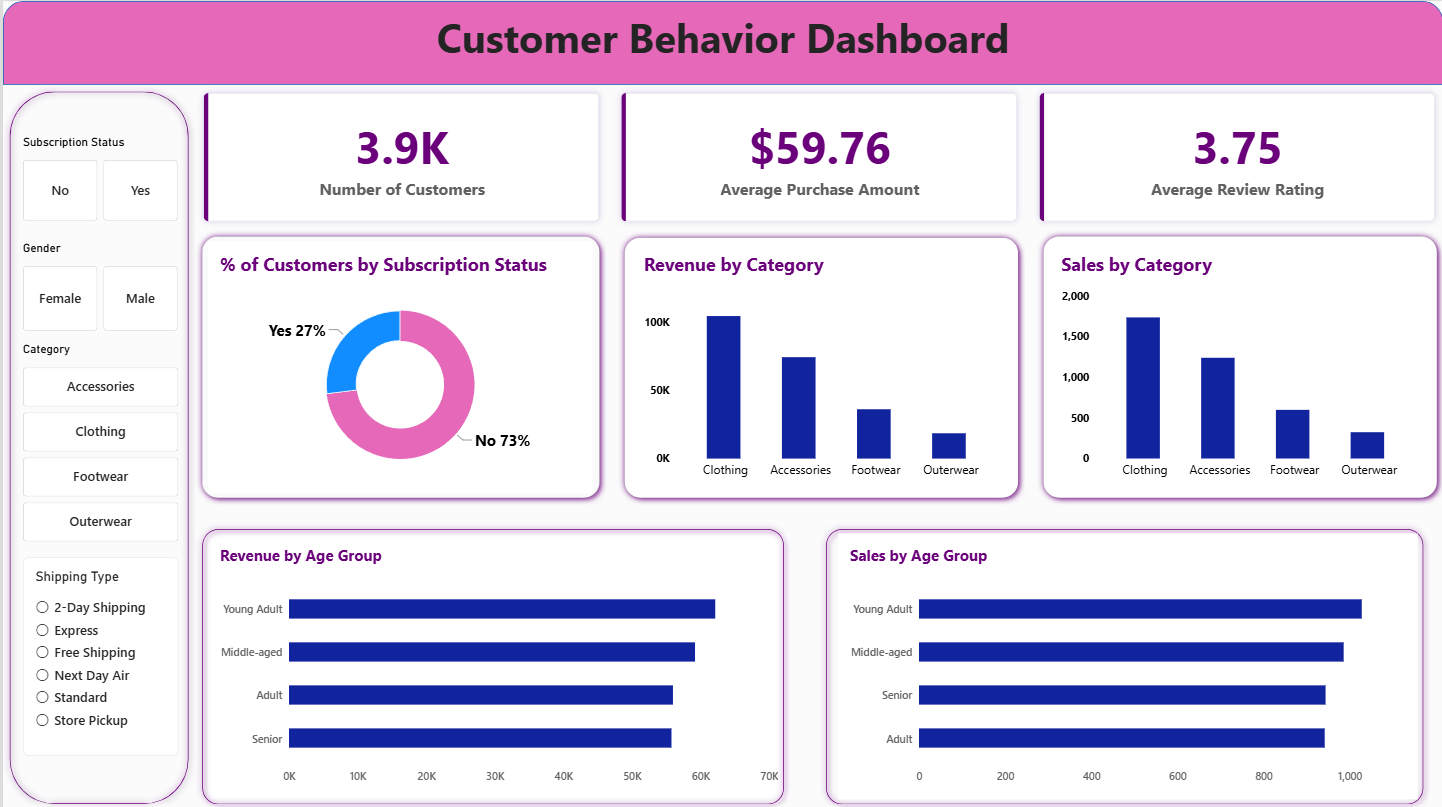

Layout of this report page (visuals, bound fields, positions):
{"tool":"powerbi","page":{"name":"Page 1","canvas":[1920,1080],"ordinal":0},"visuals":[{"type":"cardVisual","fields":{"Data":["customer_bahavior customer_data.Number of Customers","customer_bahavior customer_data.Average Purchase Amount","customer_bahavior customer_data.Average Review Rating"]},"box":[256.4,111.6,1664,193.6],"z":0},{"type":"shape","box":[0,0,1920.4,111.6],"z":1000},{"type":"textbox","box":[0,12.2,1920.4,99.4],"z":2000},{"type":"shape","box":[256.4,305.2,547.7,366.3],"z":3000},{"type":"donutChart","title":"% of Customers by Subscription Status","fields":{"Category":["customer_bahavior customer_data.subscription_status"],"Y":["CountNonNull(customer_bahavior customer_data.customer_id)"]},"box":[273.8,319.2,512.8,336.6],"z":4000},{"type":"shape","box":[819.8,307,542.4,364.5],"z":5000},{"type":"shape","box":[1377.6,305.2,542.4,366.3],"z":6000},{"type":"clusteredColumnChart","title":"Revenue by Category","fields":{"Y":["Sum(customer_bahavior customer_data.purchase_amount)"],"Category":["customer_bahavior customer_data.category"]},"box":[838.7,319.6,506.6,336.7],"z":7000},{"type":"clusteredColumnChart","title":"Sales by Category","fields":{"Y":["CountNonNull(customer_bahavior customer_data.customer_id)"],"Category":["customer_bahavior customer_data.category"]},"box":[1395.4,319.2,507.6,336.6],"z":8000},{"type":"shape","box":[0,111.6,256.4,968],"z":9000},{"type":"advancedSlicerVisual","title":"Subscription Status","fields":{"Values":["customer_bahavior customer_data.subscription_status"]},"box":[26.2,177.9,207.6,115.1],"z":10000},{"type":"advancedSlicerVisual","title":"Gender","fields":{"Values":["customer_bahavior customer_data.gender"]},"box":[26.2,319.2,207.6,120.3],"z":11000},{"type":"advancedSlicerVisual","title":"Category","fields":{"Values":["customer_bahavior customer_data.category"]},"box":[26.2,455.2,207.6,266.9],"z":12000},{"type":"listSlicer","title":"Shipping Type","fields":{"Values":["customer_bahavior customer_data.shipping_type"]},"box":[26.2,741.3,207.6,265.1],"z":13000},{"type":"clusteredBarChart","title":"Revenue by Age Group","fields":{"Y":["Sum(customer_bahavior customer_data.purchase_amount)"],"Category":["customer_bahavior customer_data.age_group"]},"box":[273.8,709.9,776.2,354.1],"z":14000},{"type":"shape","box":[256.4,694.2,793.6,385.5],"z":15000},{"type":"shape","box":[1088.4,694.2,814.5,385.5],"z":16000},{"type":"clusteredBarChart","title":"Sales by Age Group","fields":{"Y":["CountNonNull(customer_bahavior customer_data.customer_id)"],"Category":["customer_bahavior customer_data.age_group"]},"box":[1112.8,709.9,772.7,354.1],"z":17000}]}

Visuals, with their boxes in screenshot pixels (x1, y1, x2, y2), scaled from the page's 1920x1080 canvas onto the 1442x807 screenshot:
cardVisual - customer_bahavior customer_data.Number of Customers x customer_bahavior customer_data.Average Purchase Amount: l=193, t=83, r=1441, b=228
shape: l=0, t=0, r=1441, b=83
textbox: l=0, t=9, r=1441, b=83
shape: l=193, t=228, r=604, b=502
"% of Customers by Subscription Status" donutChart: l=206, t=239, r=591, b=490
shape: l=616, t=229, r=1023, b=502
shape: l=1035, t=228, r=1441, b=502
"Revenue by Category" clusteredColumnChart: l=630, t=239, r=1010, b=490
"Sales by Category" clusteredColumnChart: l=1048, t=239, r=1429, b=490
shape: l=0, t=83, r=193, b=806
"Subscription Status" advancedSlicerVisual: l=20, t=133, r=176, b=219
"Gender" advancedSlicerVisual: l=20, t=239, r=176, b=328
"Category" advancedSlicerVisual: l=20, t=340, r=176, b=540
"Shipping Type" listSlicer: l=20, t=554, r=176, b=752
"Revenue by Age Group" clusteredBarChart: l=206, t=530, r=789, b=795
shape: l=193, t=519, r=789, b=806
shape: l=817, t=519, r=1429, b=806
"Sales by Age Group" clusteredBarChart: l=836, t=530, r=1416, b=795
